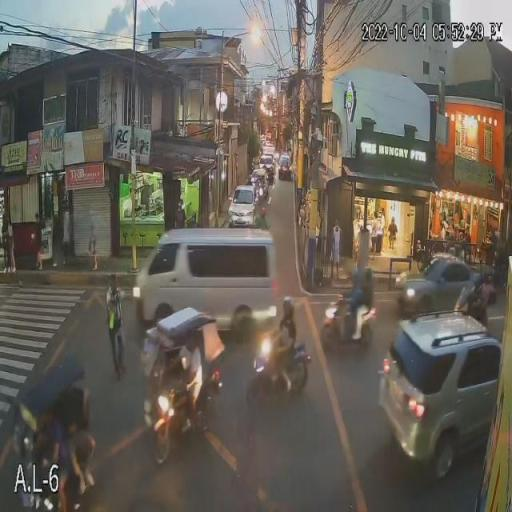helmet: (280, 296, 297, 322), (348, 267, 362, 283), (472, 272, 483, 290), (362, 266, 374, 282), (260, 207, 267, 217)
motorcycle: (245, 349, 312, 401), (318, 302, 376, 346), (453, 288, 496, 315)
rider: (276, 320, 296, 393), (353, 286, 374, 338), (343, 285, 364, 331), (471, 289, 484, 319), (256, 216, 269, 230)
